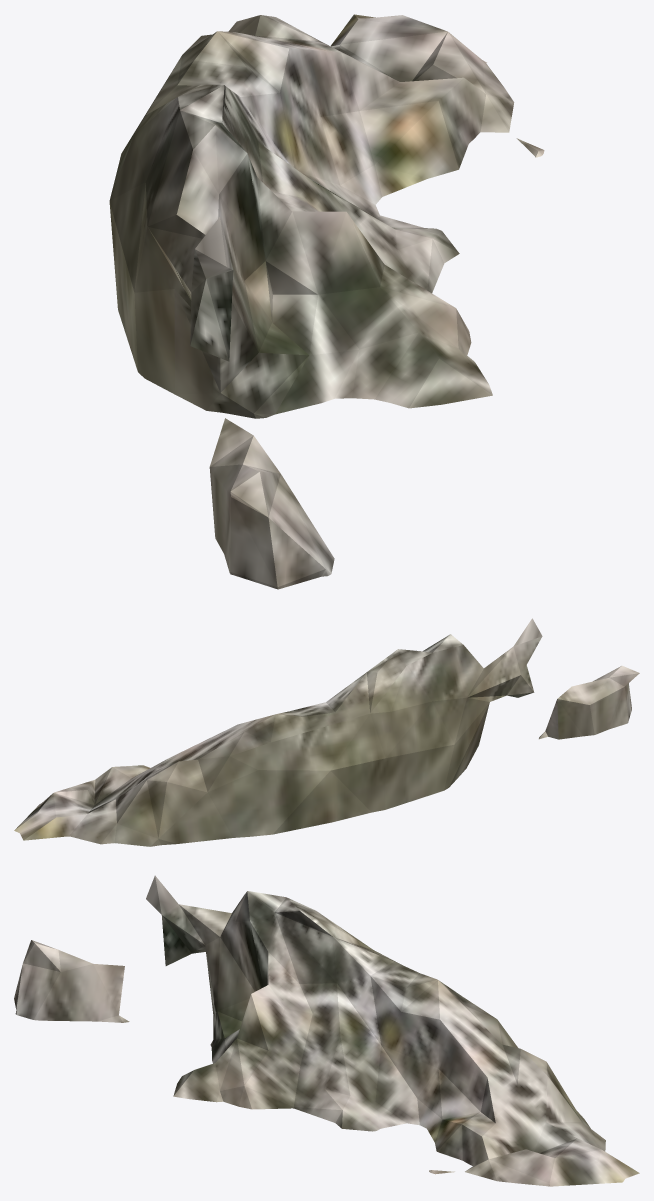
The picture shows the model from 3 angles, top to bottom: view 1: azimuth 30°, elevation 25°; view 2: azimuth 150°, elevation 25°; view 3: azimuth 270°, elevation 25°; orthographic projection. The views are drawn at different scales.
Size of the model in its own units: 1.43 by 0.5095 by 1.93.
Materials: 1 (1 with a texture image).
